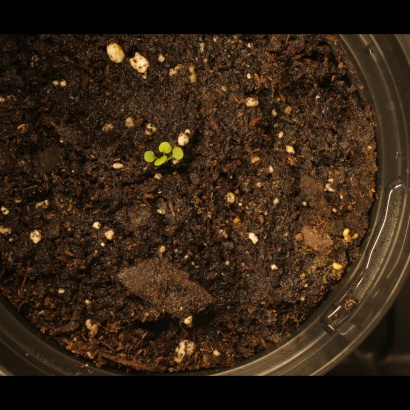leaf: (151, 156, 174, 179), (132, 147, 155, 170), (174, 148, 197, 171), (154, 135, 177, 158)
